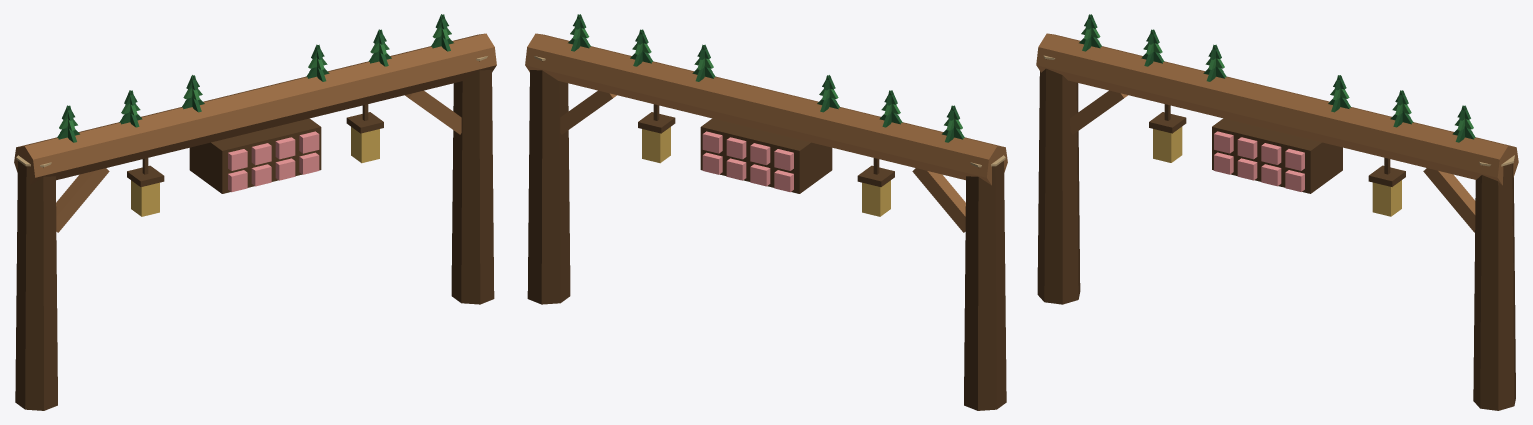
File: gantry.glb
3 renders of one model, left to right at view 1: azimuth 30°, elevation 25°; view 2: azimuth 150°, elevation 25°; view 3: azimuth 330°, elevation 25°, orthographic.
Parts seen in each view (by area): view 1: pineValley-gantry, lamps; view 2: pineValley-gantry, lamps; view 3: pineValley-gantry, lamps.
Boxes of the visible parts, x1,y1,x2,y2 form: pineValley-gantry: [14, 14, 496, 410]; lamps: [228, 131, 319, 192]; pineValley-gantry: [525, 14, 1007, 410]; lamps: [702, 131, 793, 192]; pineValley-gantry: [1036, 14, 1518, 410]; lamps: [1214, 131, 1304, 191].
Size of the model in its own units: 1.26 by 0.735 by 0.184.
